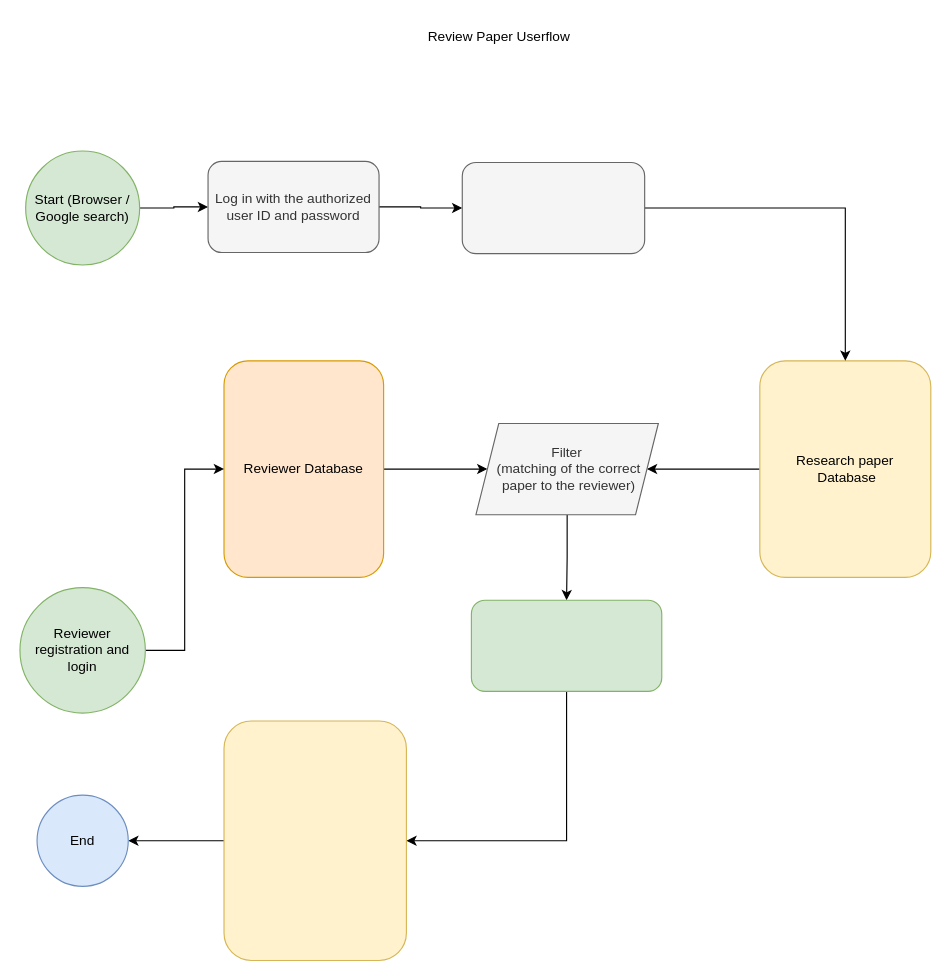
This 951x980 diagram has some shape labels left out. Here are the shapes that lost their labels. From the top down, the centre of each, then its label:
At point 553,207: "Submitting the original review paper".
At point 566,645: "Review submitted by the reviewer".
At point 314,840: "Frontend display screen for the submitted reviews".
